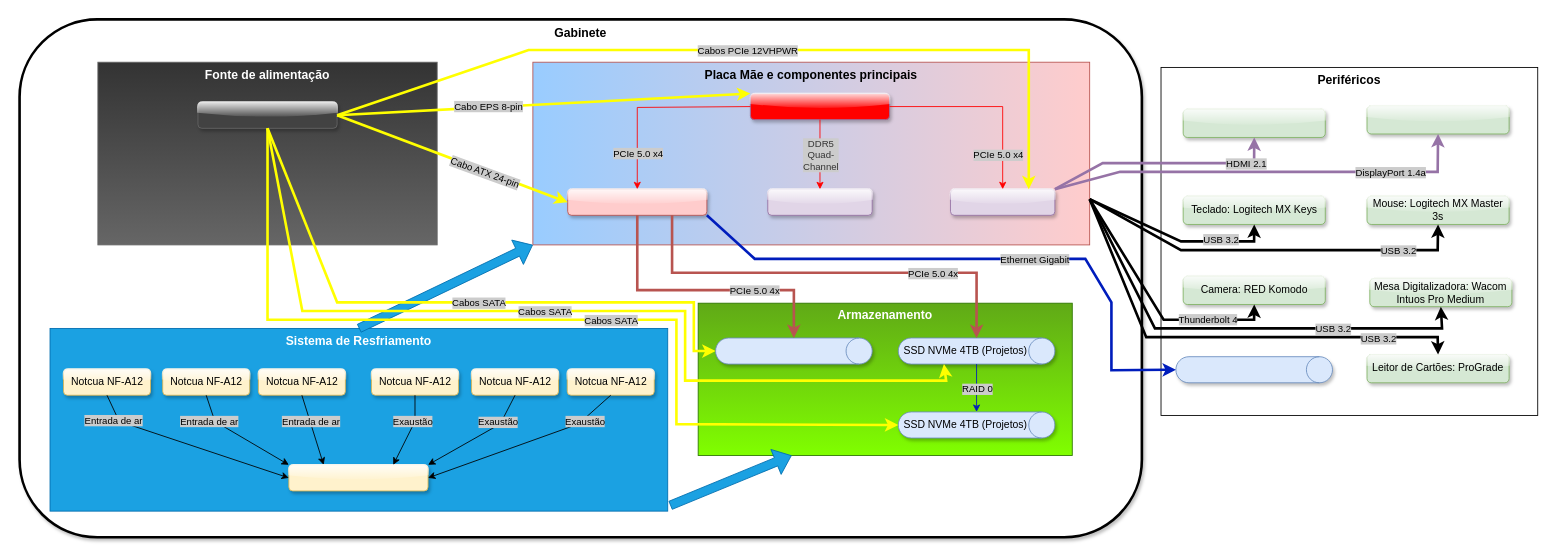
The diagram is 1553 pixels wide and 560 high, and some of its shapes have lost their labels. Each missing label, with the centre of its shape:
128 GB RAM DDR5 6000 MHz: the point at 820,203
Corsair HX1200 Platinum: the point at 268,116
Corsair iCUE H150i Water Cooler 360mm: the point at 358,478
CPU: AMD Ryzen 9 7950X: the point at 637,203
GPU: NVIDIA RTX 4090: the point at 1003,203
HDD - NAS Sinology 16TB: the point at 1254,370
Monitor: Dell UltraSharp 32" 4K: the point at 1254,124
Monitor: LG UltraGear 27": the point at 1438,120
Placa-mãe ASUS X670E: the point at 820,107
SSD NVMe 4TB (Sistema): the point at 794,352
